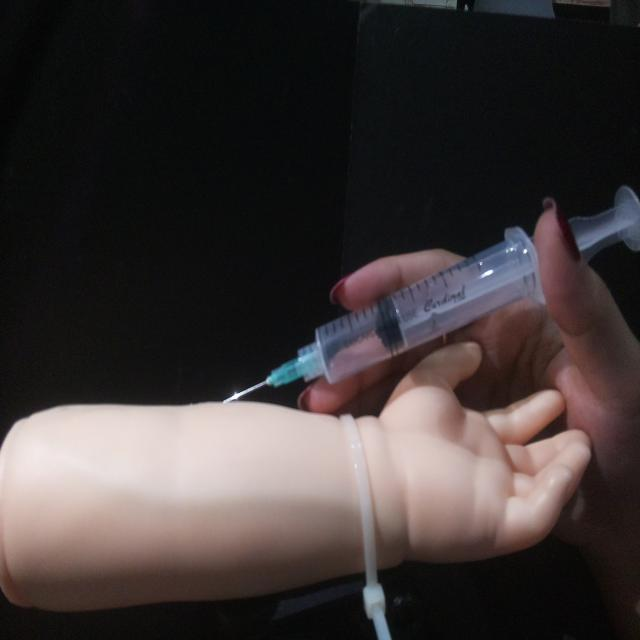19deg: (220, 182, 638, 406)
